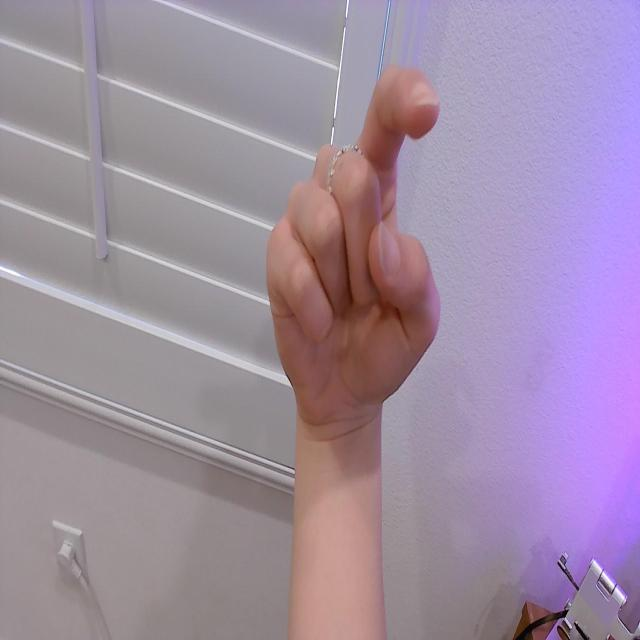X: (263, 62, 446, 432)
